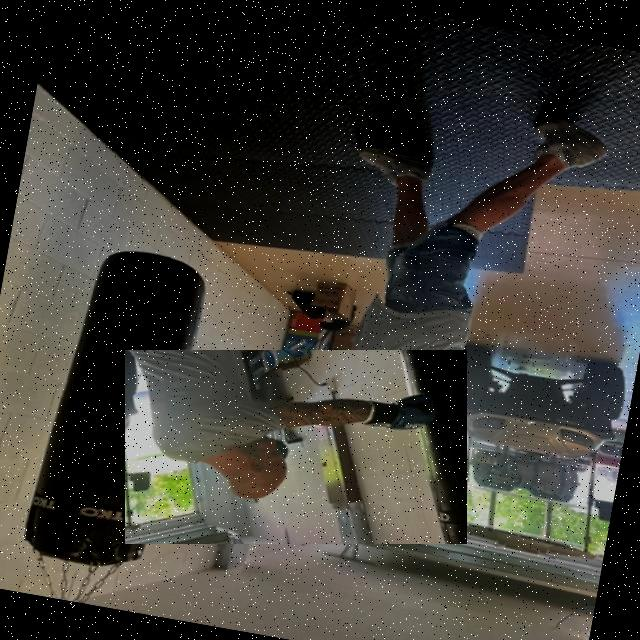punch: (125, 350, 467, 544)
